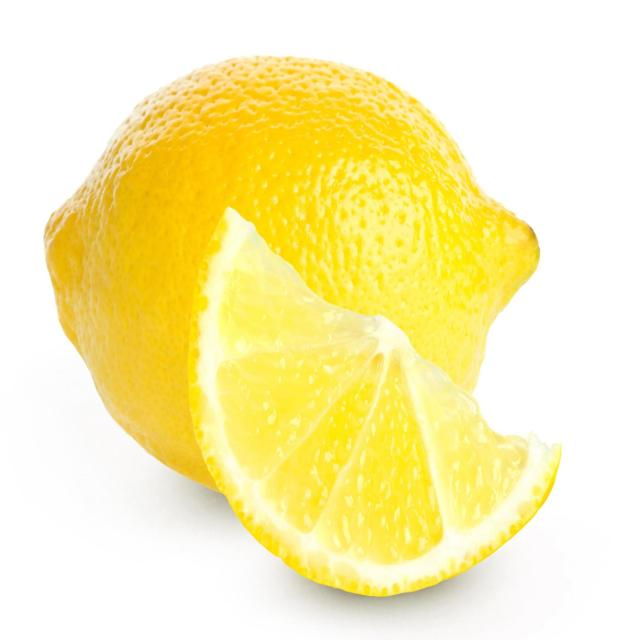lemon: (38, 46, 568, 610)
